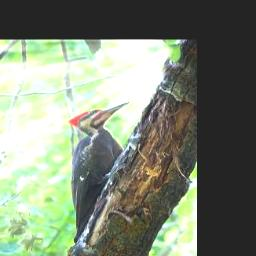Woodpecker: (67, 100, 132, 244)
